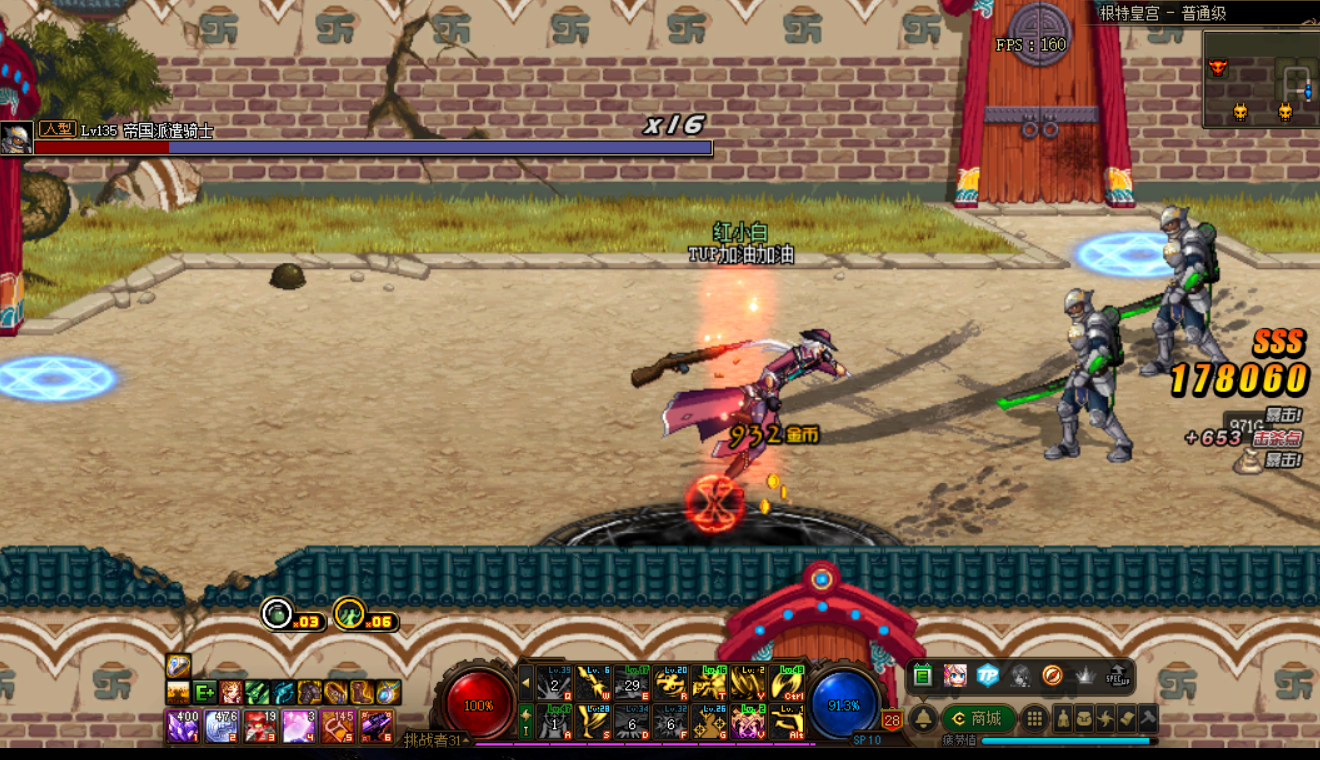monster: (999, 285, 1133, 463), (1121, 200, 1240, 384)
warrior: (688, 323, 844, 499)
